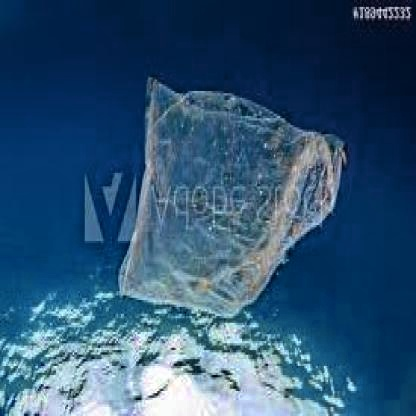pbag: (118, 75, 346, 323)
